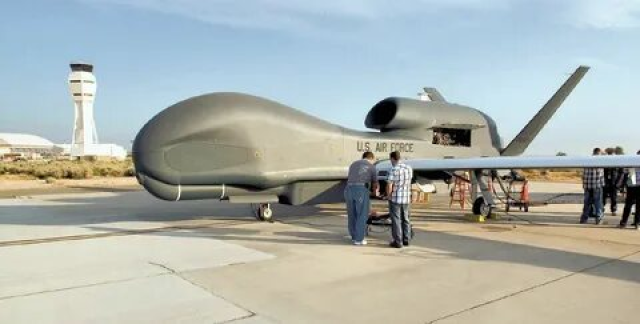military drone: (132, 65, 640, 221)
